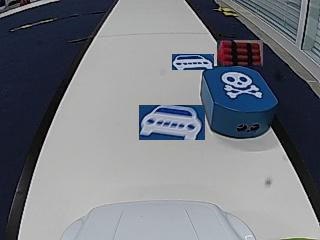danger: (222, 72, 259, 98)
